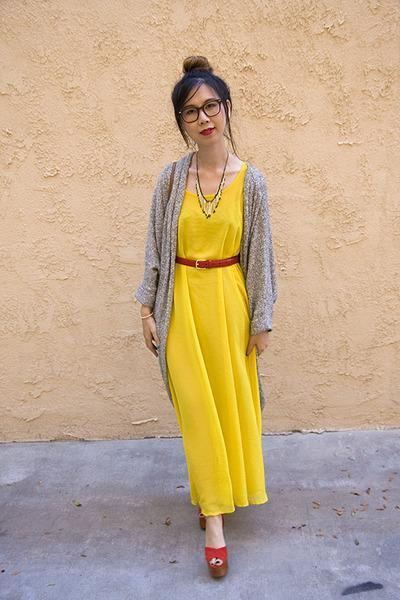dress: (167, 183, 266, 525)
jacket: (142, 162, 284, 345)
shoe: (198, 513, 227, 581)
